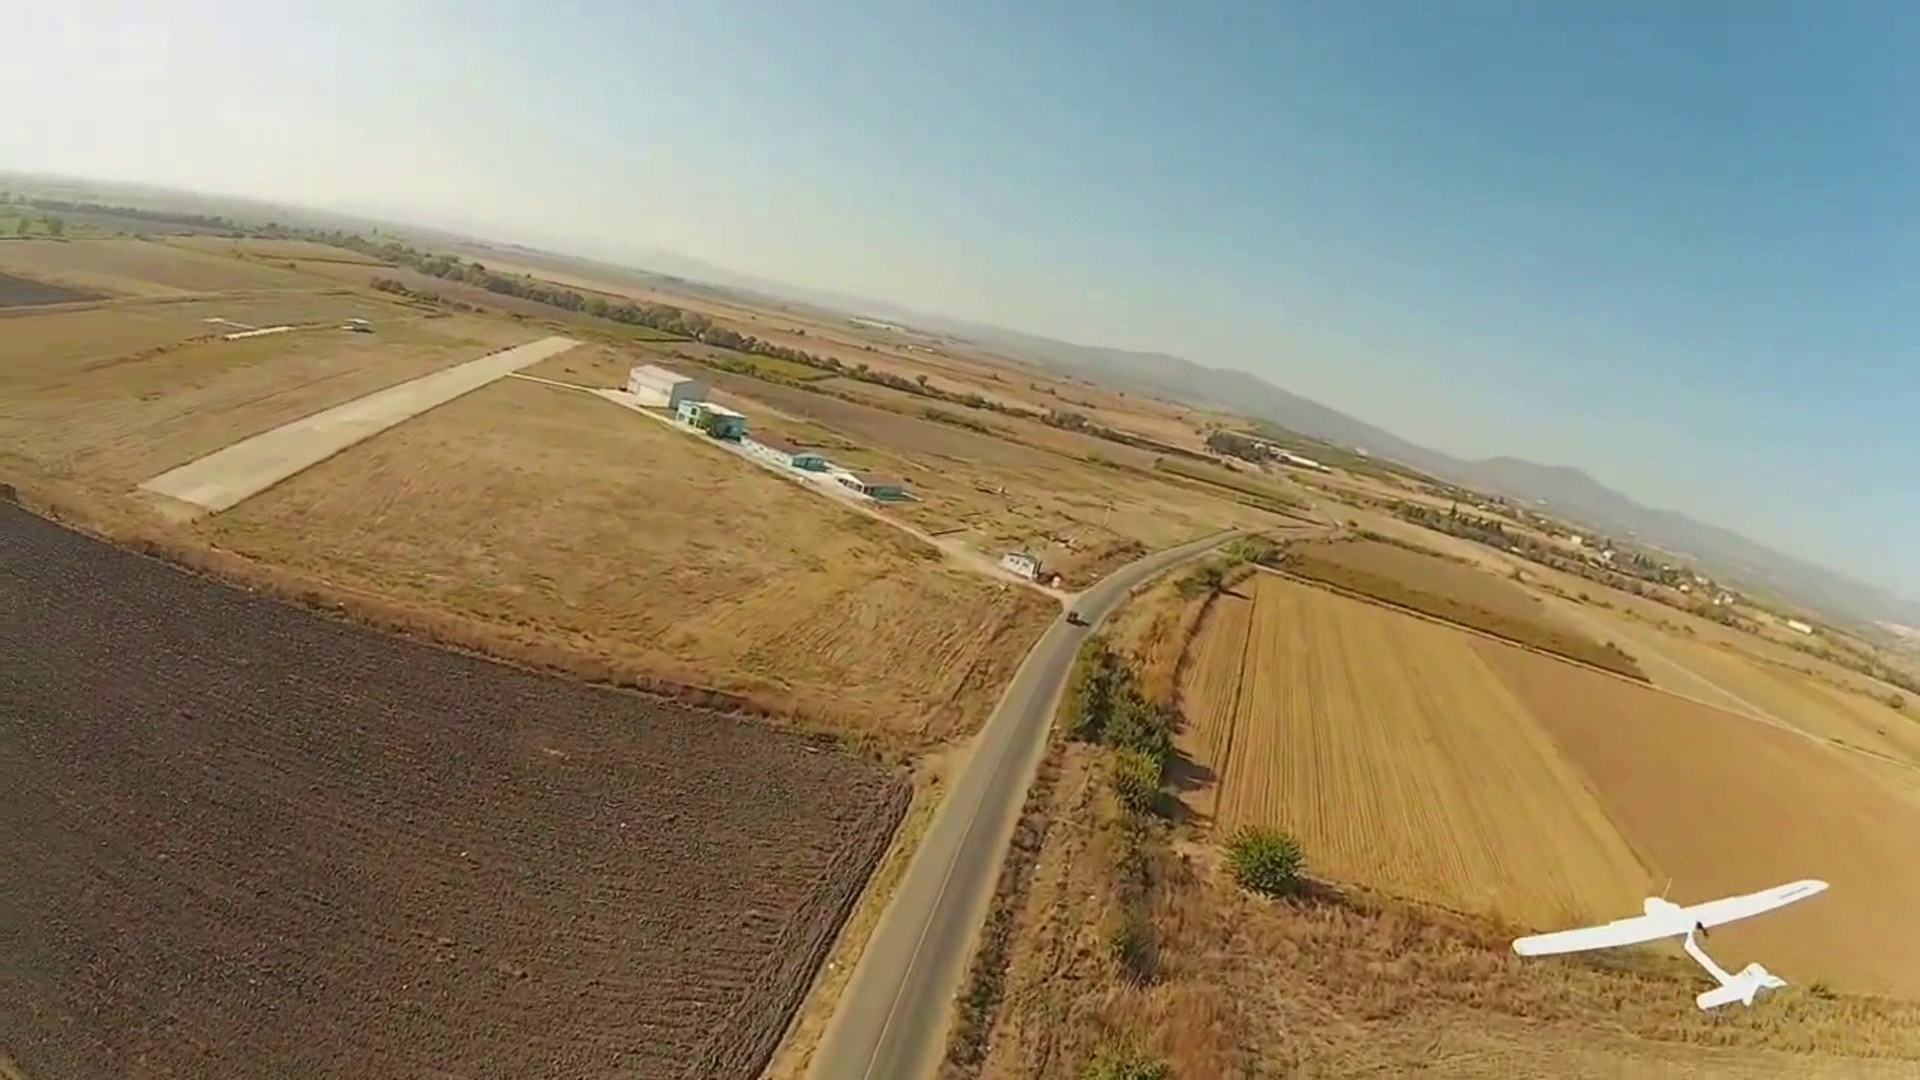airplane: (1512, 878, 1830, 1021)
